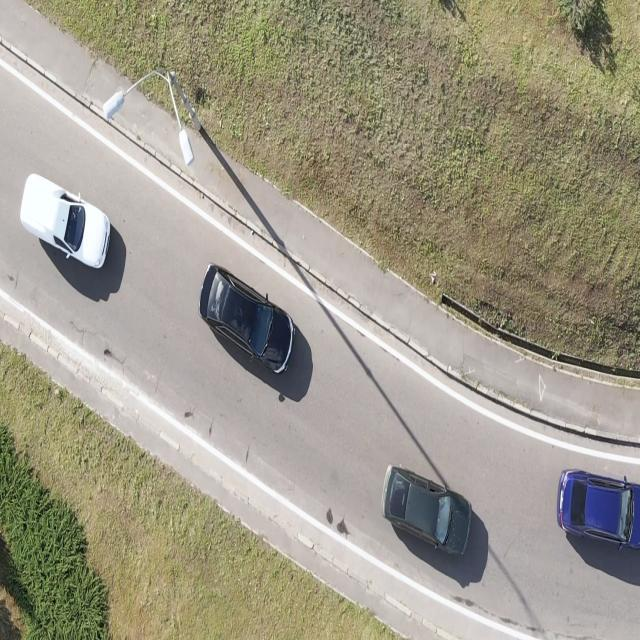vehicle: (198, 264, 294, 376), (20, 173, 110, 270), (380, 464, 472, 556), (556, 470, 640, 550)
